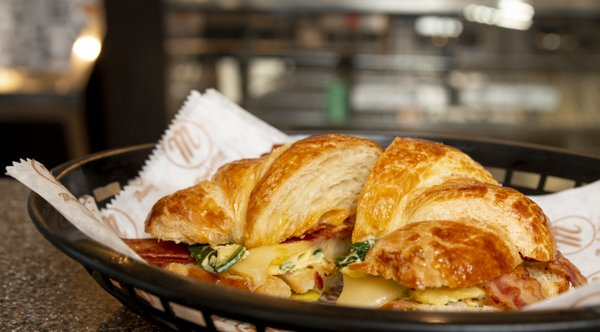soup: (344, 136, 581, 309), (143, 133, 384, 302)
